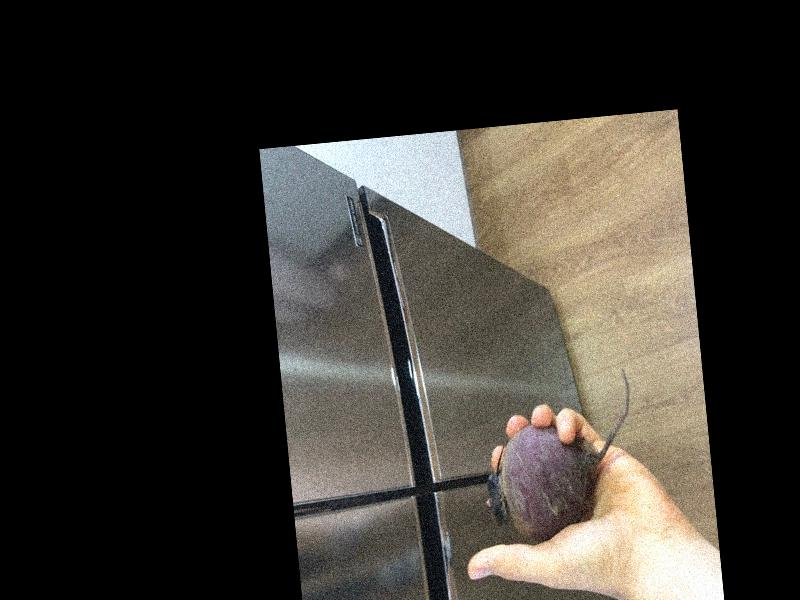Beet: (475, 367, 641, 546)
